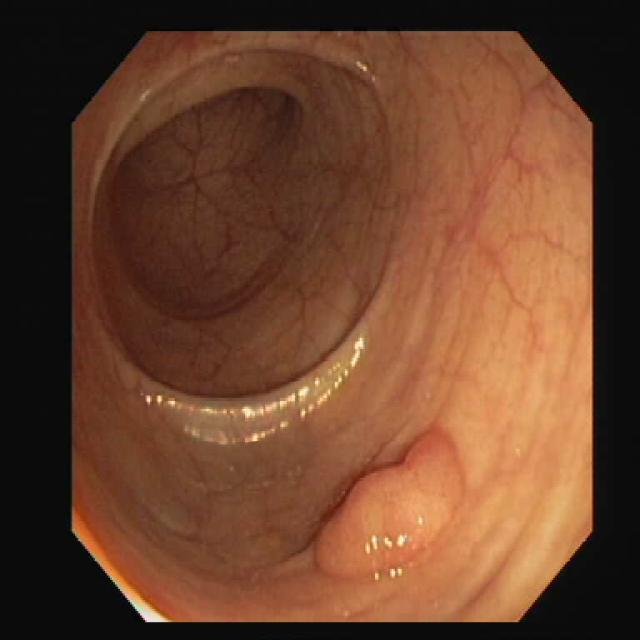tumor: (317, 436, 458, 573)
